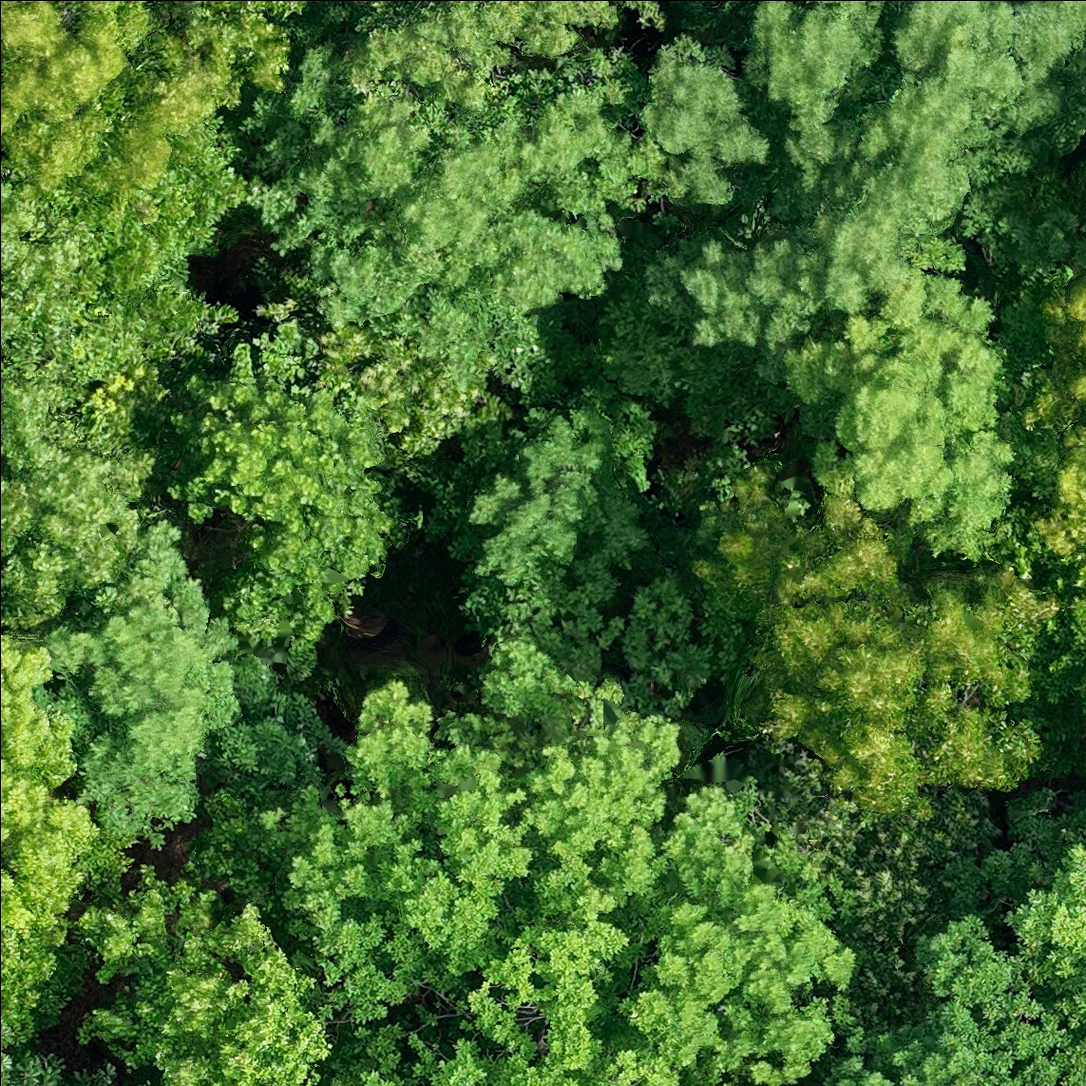Tree: (312, 703, 862, 1083), (659, 0, 1053, 524), (273, 4, 638, 381), (712, 512, 1059, 810), (448, 378, 714, 721), (0, 239, 204, 611), (0, 0, 270, 233), (79, 588, 323, 844), (184, 394, 391, 640), (6, 630, 122, 1059), (859, 891, 1085, 1085), (72, 882, 298, 1076), (252, 301, 465, 457), (827, 794, 995, 964), (1017, 252, 1085, 591), (986, 823, 1085, 988)
